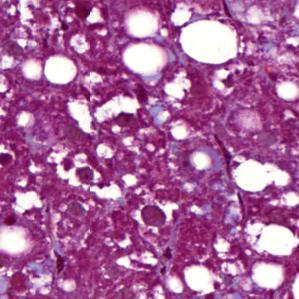steatosis: (175, 18, 244, 66), (125, 43, 172, 81), (39, 52, 87, 89)
